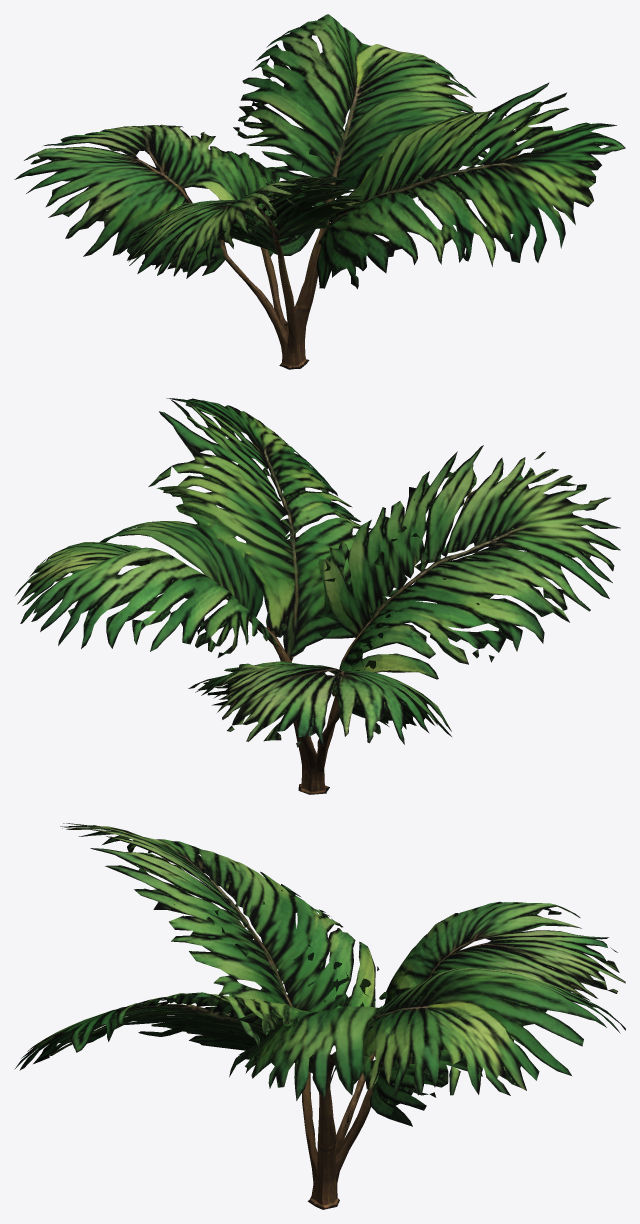
The model's file is palm-leaf-bath-mat-new-style.jpeg.glb.
3 views of the same model, one above another, from view 1: azimuth 30°, elevation 25°; view 2: azimuth 150°, elevation 25°; view 3: azimuth 270°, elevation 25° (orthographic). The views are drawn at different scales.
Visible parts, largest first — view 1: world; view 2: world; view 3: world.
Boxes of the visible parts, box(x1,y1,x2,y2) form: world: box(14, 14, 625, 369); world: box(15, 398, 620, 794); world: box(14, 823, 625, 1209).
Size of the model in its own units: 0.9871 by 0.5662 by 0.9832.
1 material, 1 textured.
